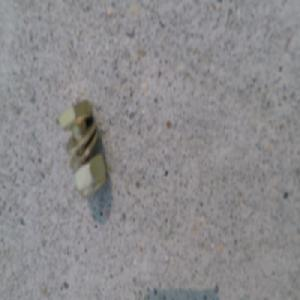BoltNutSet: (59, 98, 105, 195)
